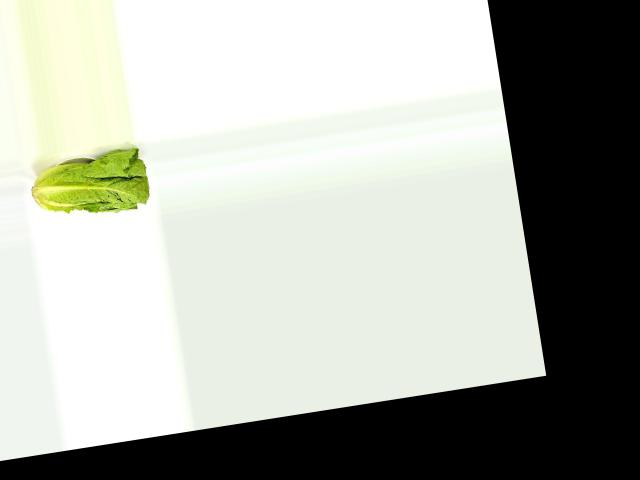lettuce: (25, 145, 152, 227)
